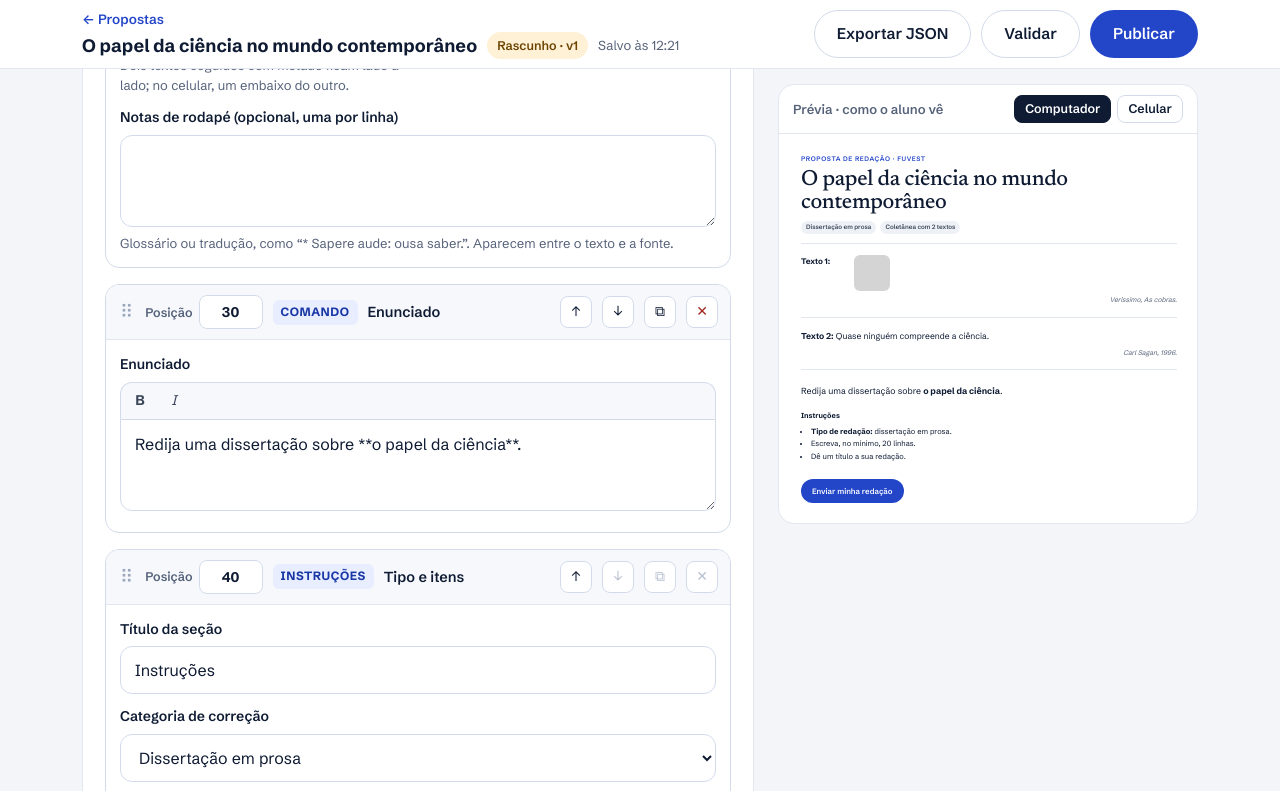
Editor da proposta › negrito e itálico envolvem o trecho selecionado
(page scrolled)
What coordinates should you click on to do the following:
click the button named "Itálico"
I would click on:
 (174, 401)
Its box is x1=159 y1=387 x2=189 y2=415.
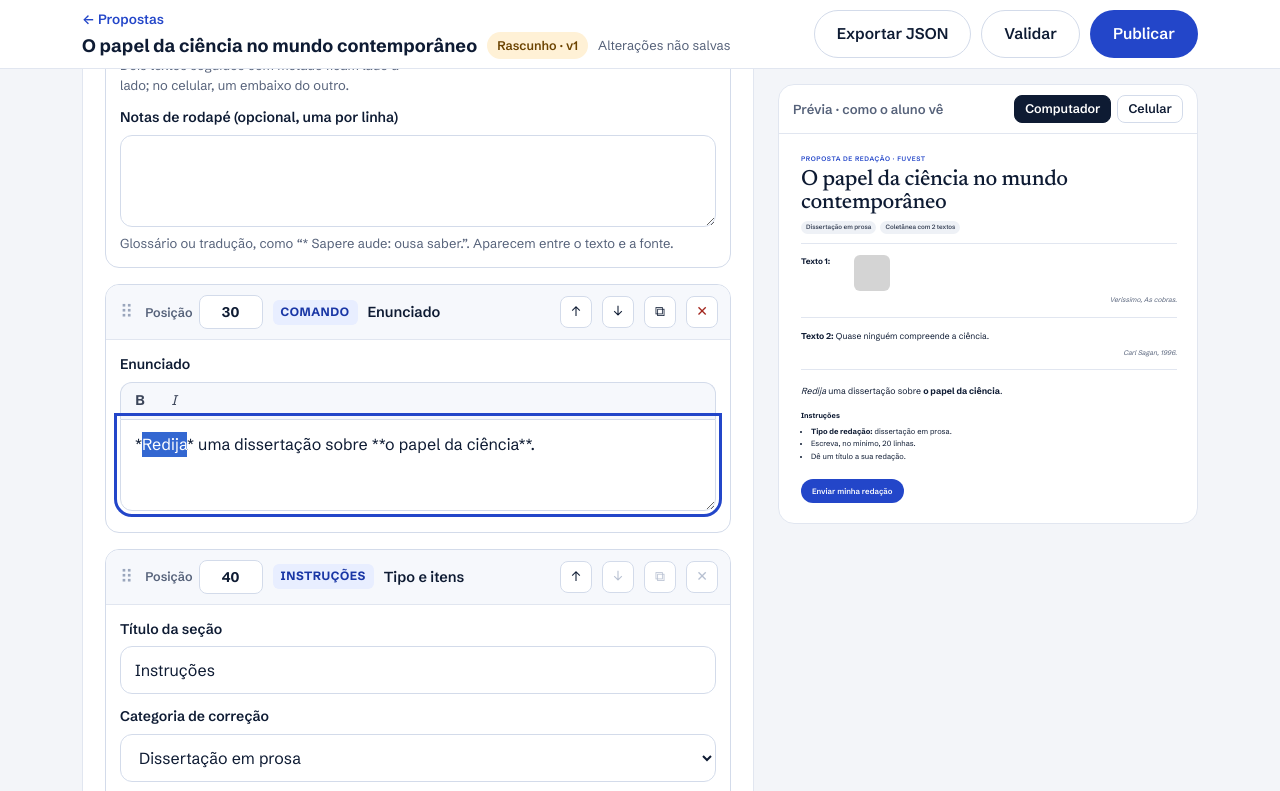
Result: the text box labelled "Enunciado" holds "*Redija* uma dissertação sobre **o papel da ciência**." at x1=120 y1=419 x2=716 y2=511
